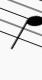B: (8, 1, 42, 53)
